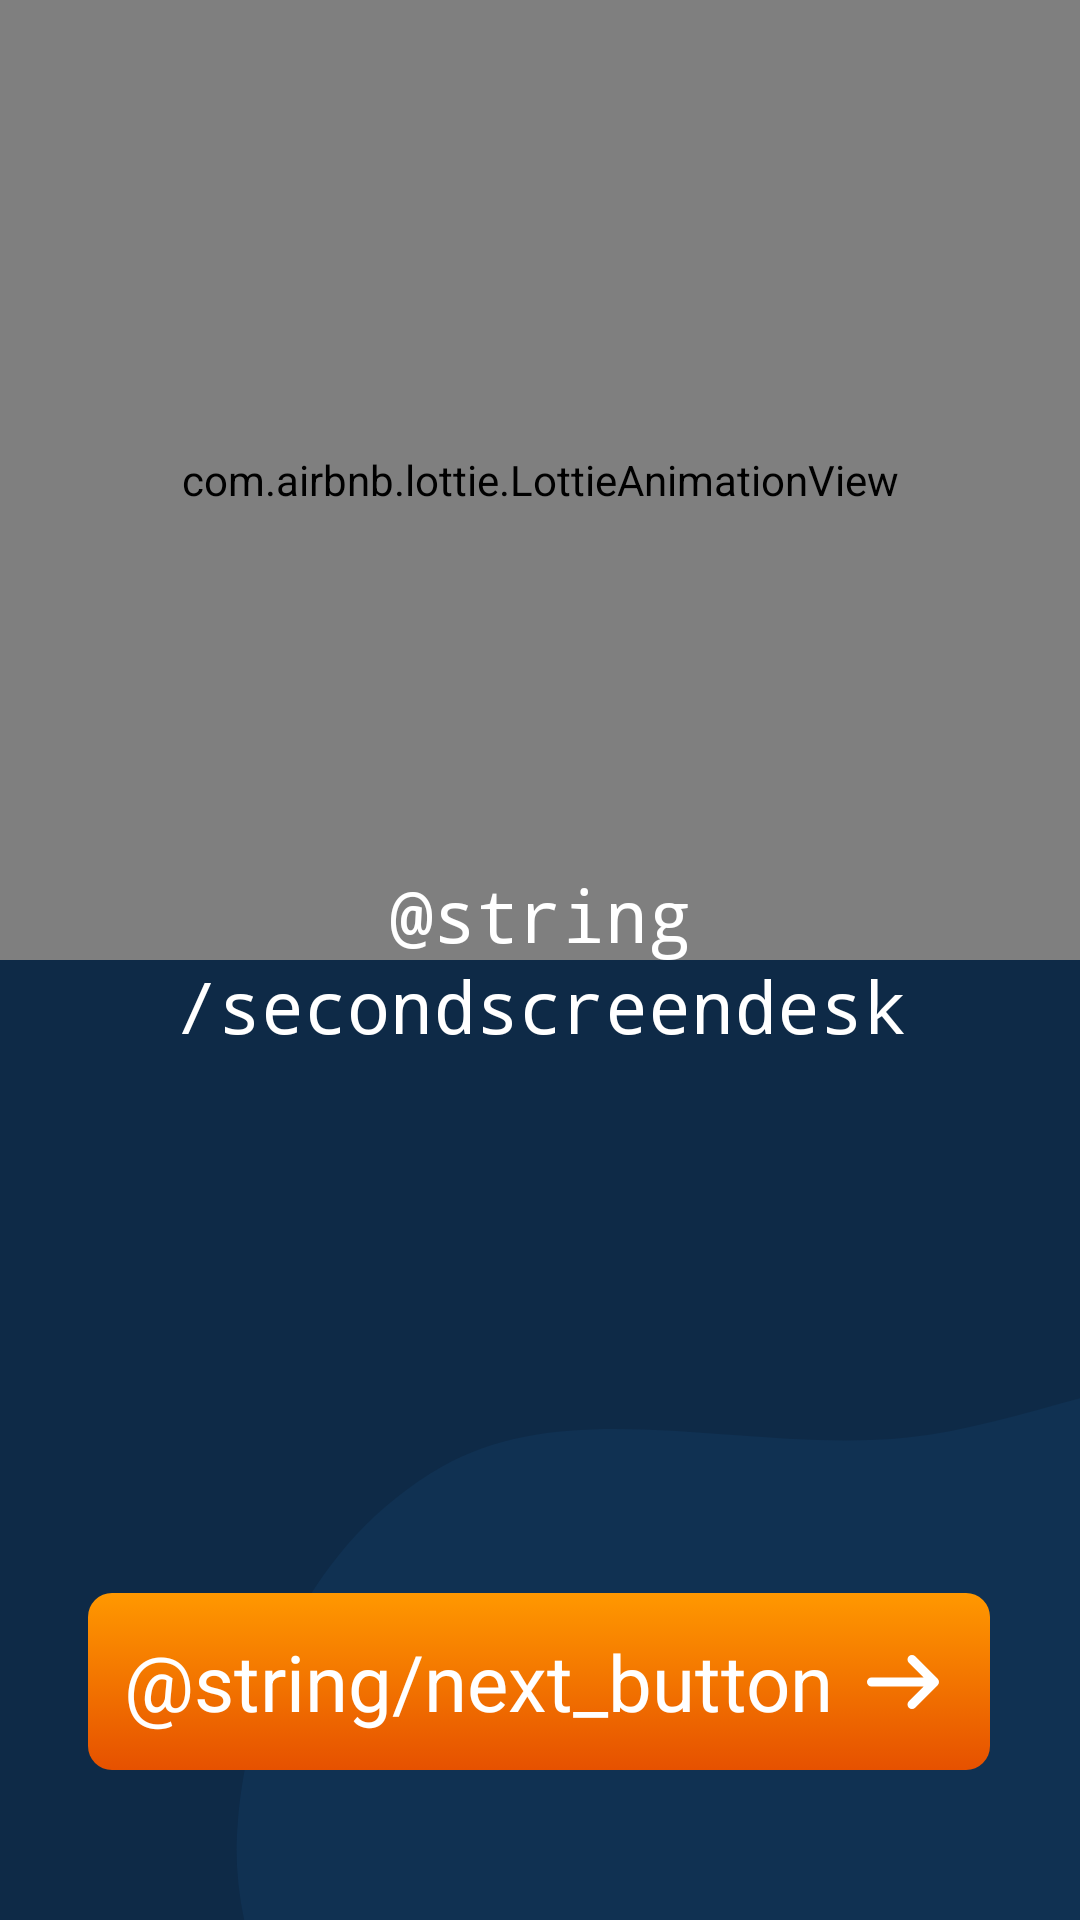

Named icons in this screenshot (1080 × 1920) and their centers, (x=x, y=y):
arrowright: (x=903, y=1682)
